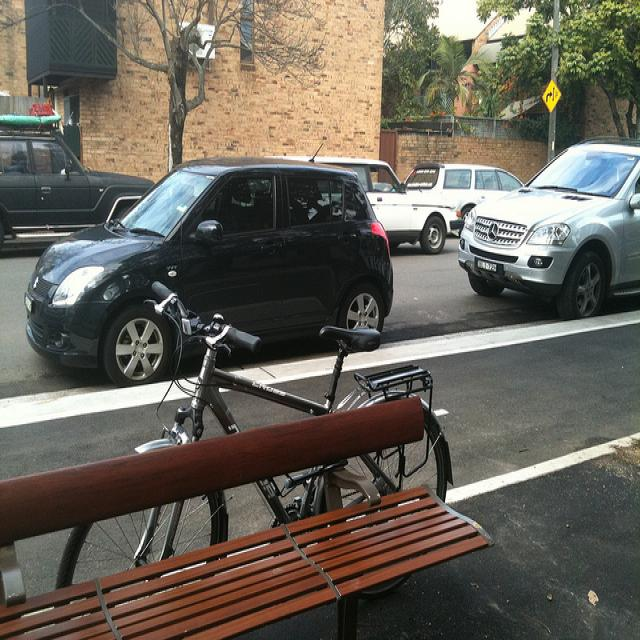Vehicle: (22, 160, 394, 382), (458, 142, 640, 316), (265, 156, 462, 256), (0, 119, 153, 242), (404, 164, 525, 237)
